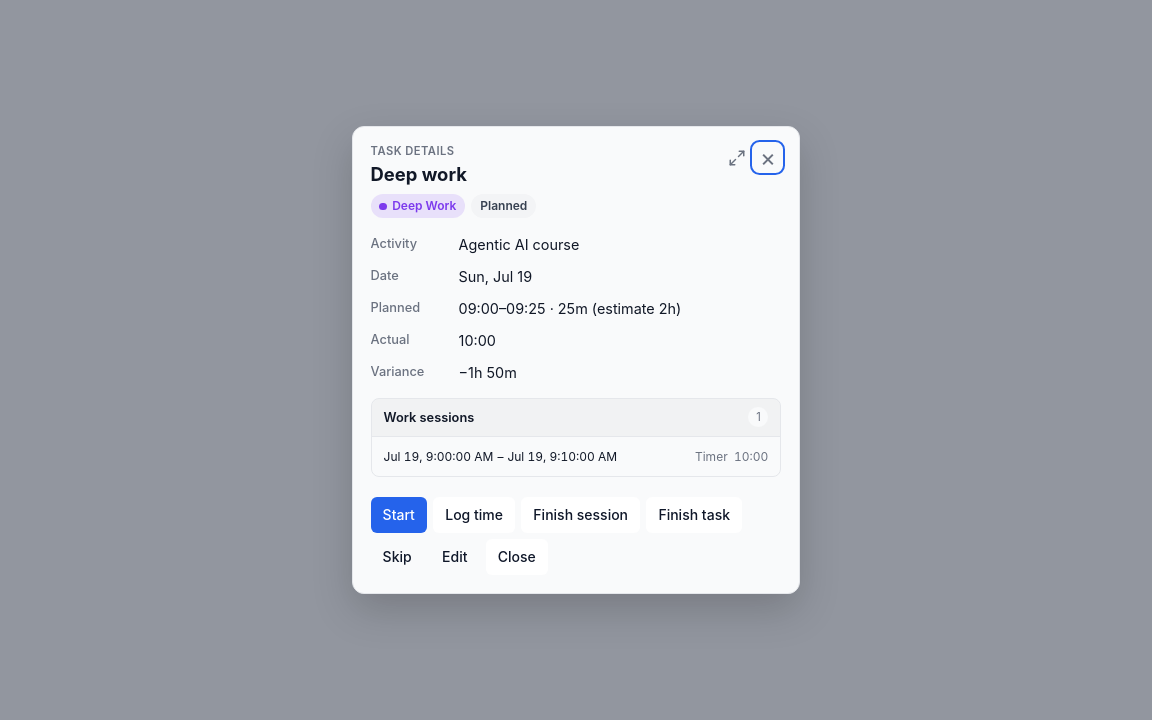
Test case: TaskDetailModal focus mode › keeps elapsed time after stopping a split-block focus session
Click the button named "Expand to full screen" at point(737, 158), box [723,143,752,172]
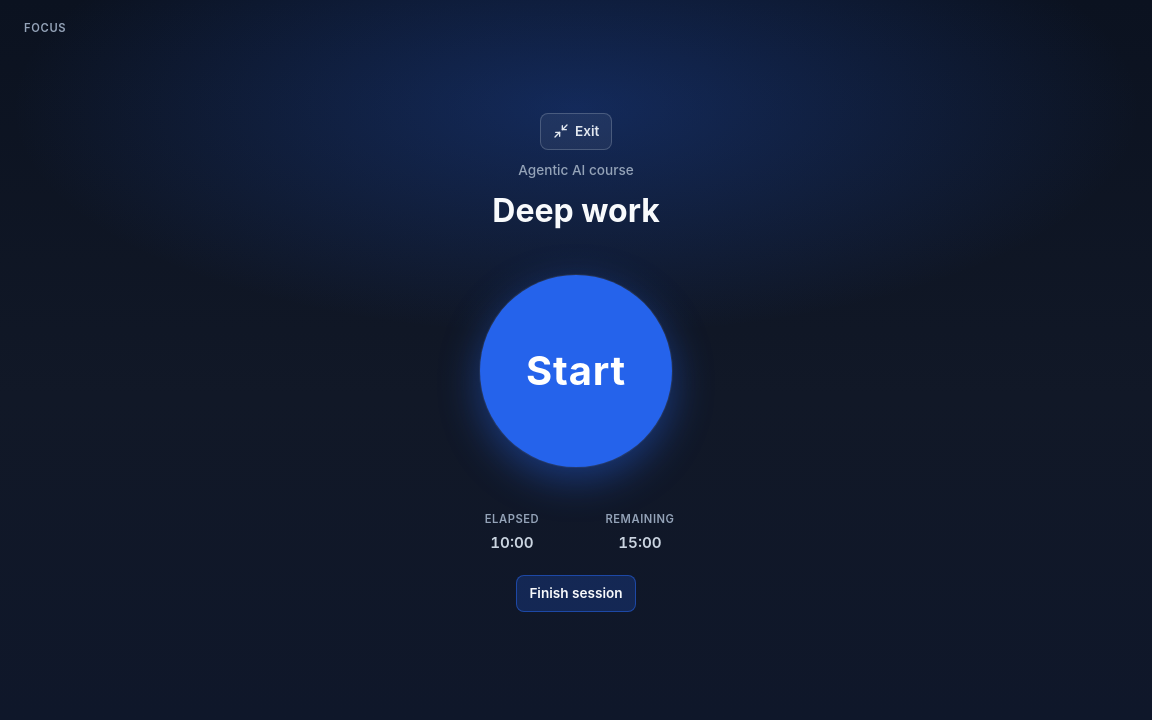
expect the text "10:00" is shown: met, box [490,533,534,552]
expect the text "15:00" is shown: met, box [618,533,662,552]
